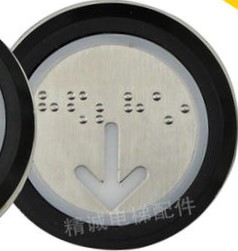Braille: (36, 90, 60, 126), (66, 91, 89, 126), (151, 91, 174, 125), (180, 91, 202, 126), (122, 92, 145, 124), (95, 91, 117, 124)
